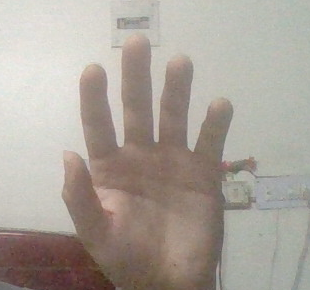move: (41, 28, 243, 287)
